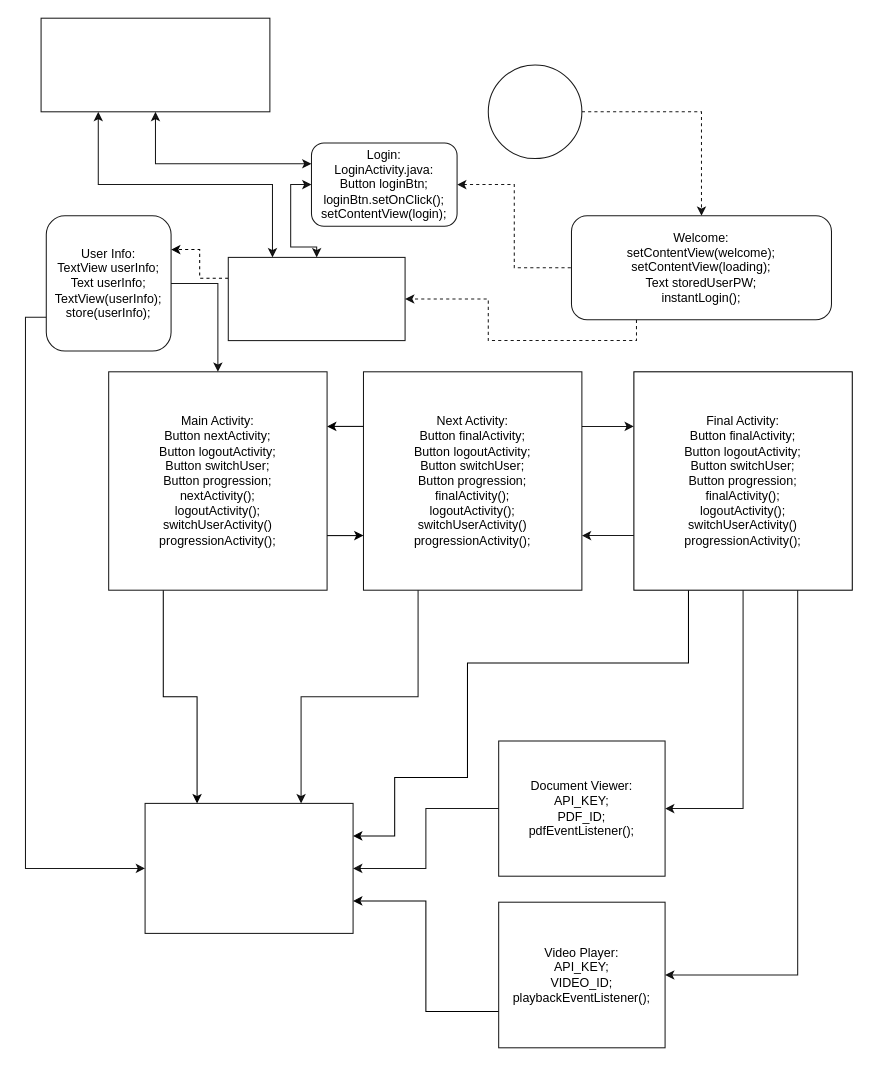
Image size: 870x1066. Some labels were removed from this diagram. The shapes that lost their labels are listed below. From the top down, each one's centre as x and y in pixels, then its label:
At (155,64): "Remote Database: storeData(); retrieveData();".
At (534,111): "Start: intent-filter() intent-login()".
At (316,298): "Local Database: storeData(); retrieveData();".
At (248,867): "Exit: exitProgramFunc();".
